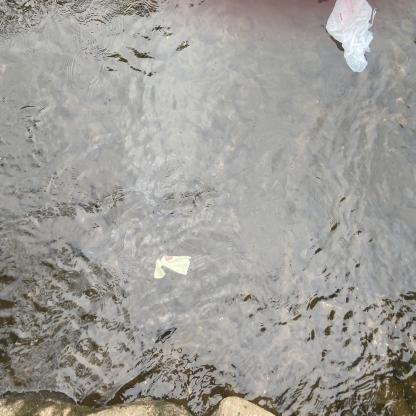trash: (323, 0, 382, 84), (144, 247, 198, 290)
